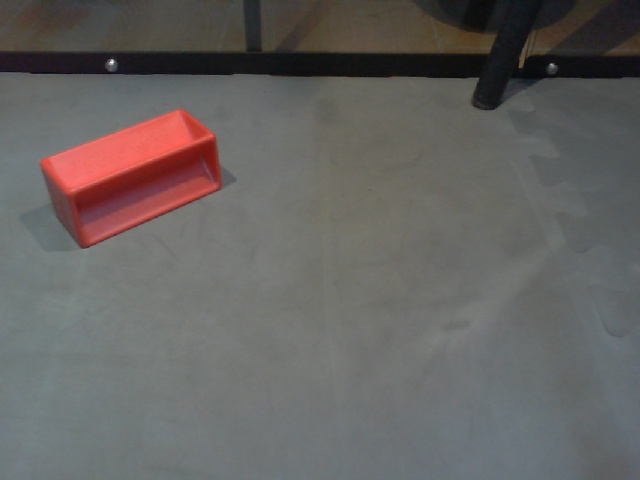RedSample: (36, 106, 222, 252)
